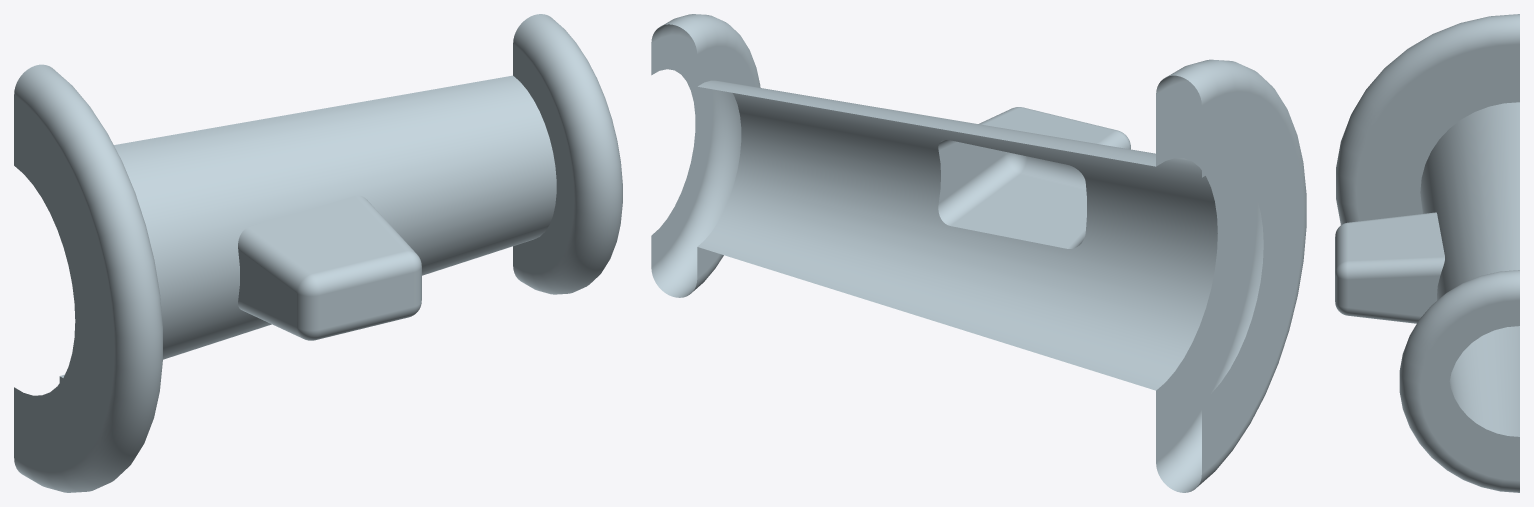
The model's file is c10tut1.glb.
3 renders of one model, left to right at view 1: azimuth 30°, elevation 25°; view 2: azimuth 150°, elevation 25°; view 3: azimuth 270°, elevation 25°, orthographic. The views are drawn at different scales.
Visible parts, largest first — view 1: c10tut1.prt; view 2: c10tut1.prt; view 3: c10tut1.prt.
Part boxes in pixels (left/top/right/bottom): c10tut1.prt: left=14, top=14, right=622, bottom=492; c10tut1.prt: left=651, top=14, right=1306, bottom=492; c10tut1.prt: left=1335, top=14, right=1519, bottom=492.
Bounding box in the file's own units: 0.18 × 0.1299 × 0.065.
